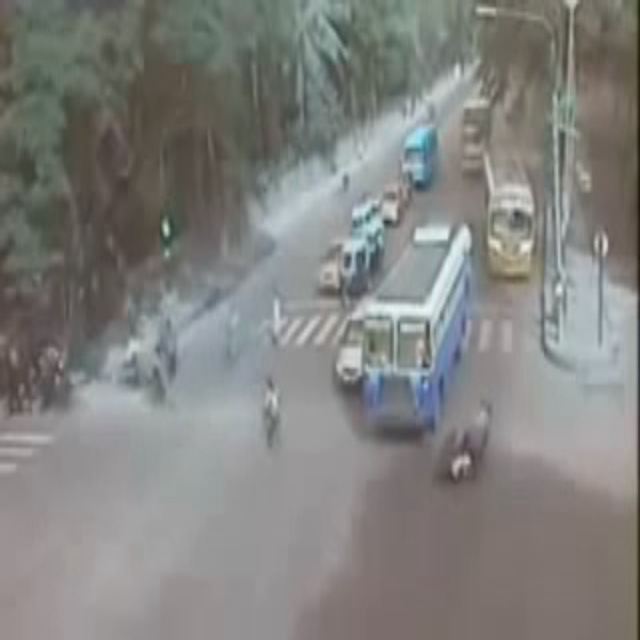acc: (419, 401, 511, 482)
